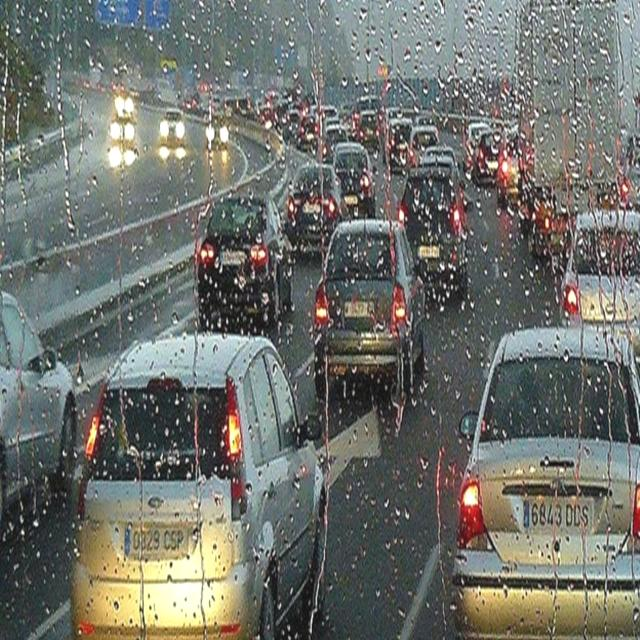Car: (80, 329, 326, 637), (450, 325, 639, 638), (313, 216, 428, 404), (1, 288, 78, 536), (194, 187, 294, 338), (560, 210, 639, 376), (398, 160, 470, 302), (285, 162, 347, 256), (525, 174, 573, 260), (333, 142, 376, 222), (494, 136, 524, 204), (470, 128, 500, 188), (408, 124, 441, 176), (387, 116, 415, 174), (204, 102, 232, 156), (159, 107, 186, 153), (323, 122, 351, 164), (114, 78, 137, 124)
